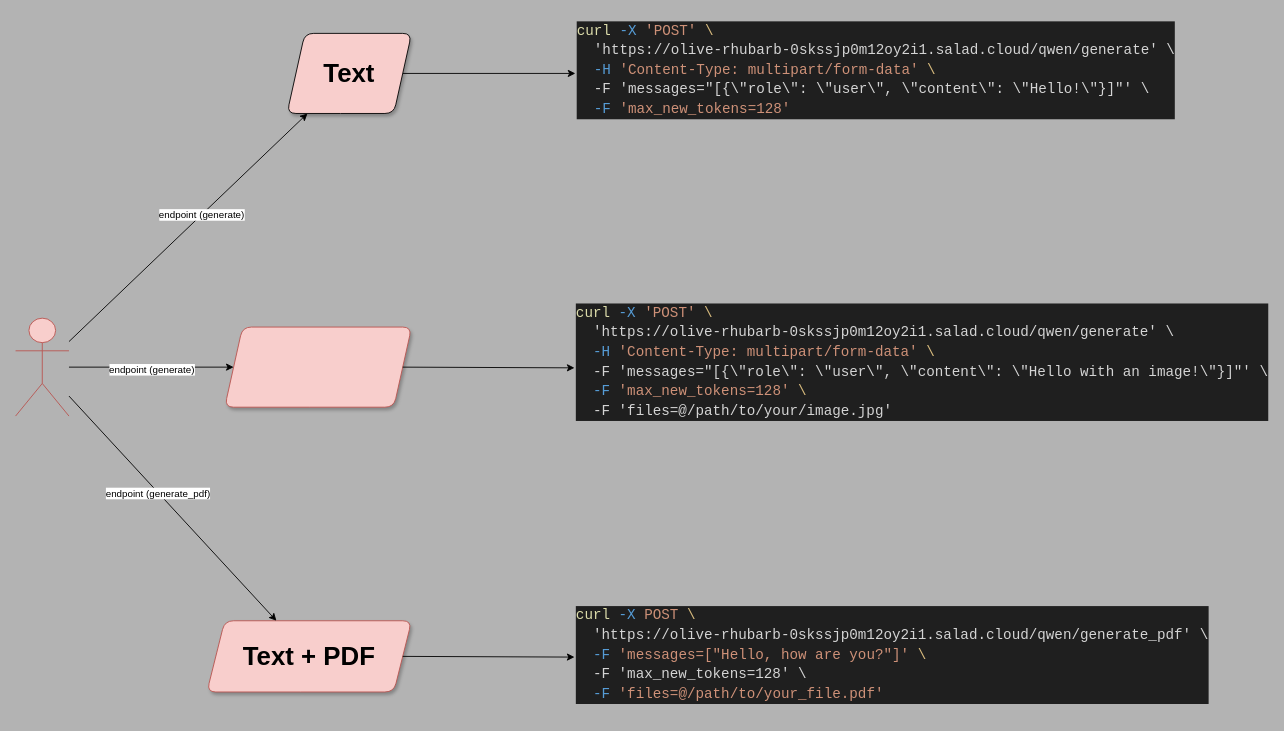
This 1284x731 diagram has some shape labels left out. The shapes that lost their labels are listed below. From the top down, each one's centre as x and y in pixels, then its label:
the point at 42,366: User
the point at 318,368: Text + Image
